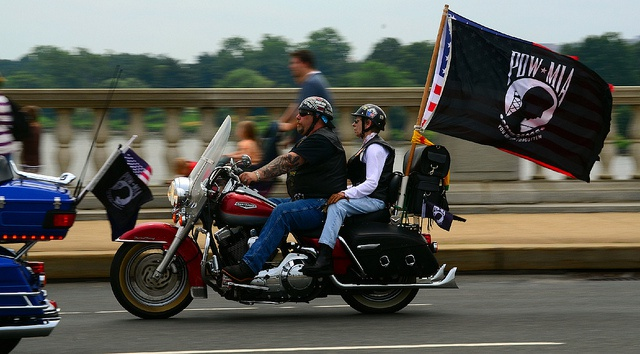non-vehicle: (112, 110, 461, 317), (0, 155, 77, 349)
